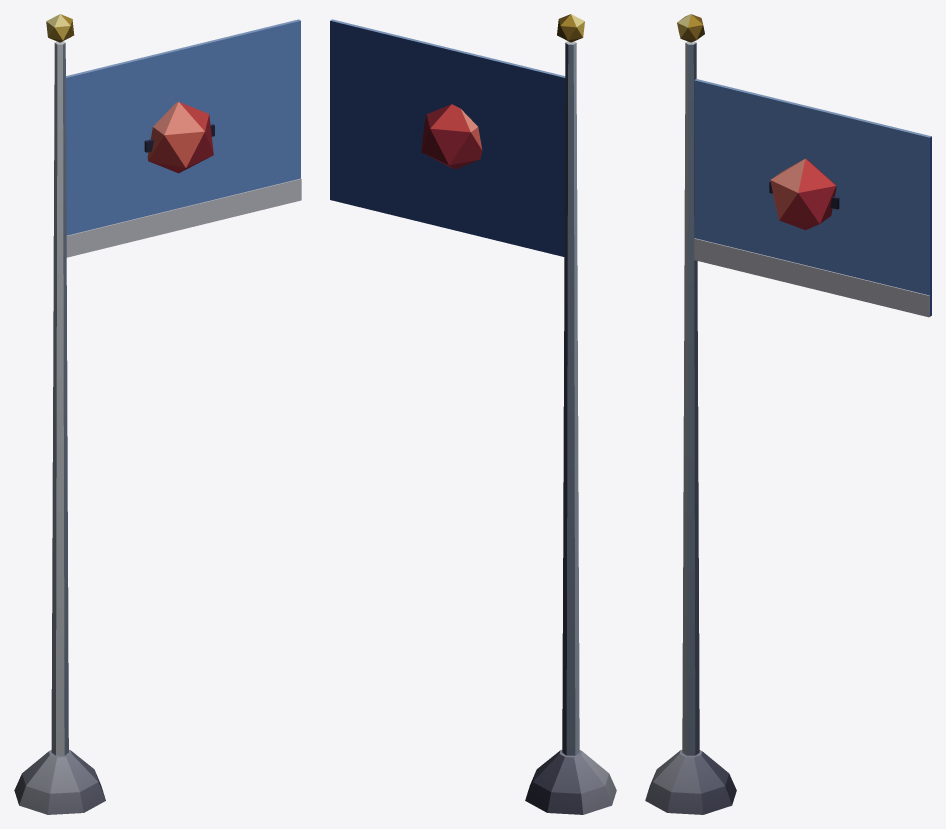
File: flag_pole.glb
The picture shows the model from 3 angles, left to right: view 1: azimuth 30°, elevation 25°; view 2: azimuth 150°, elevation 25°; view 3: azimuth 330°, elevation 25°; orthographic projection.
Visible parts, largest first — view 1: flag_pole; view 2: flag_pole; view 3: flag_pole.
Boxes of the visible parts, <box> form: flag_pole: <box>14,14,301,814</box>; flag_pole: <box>330,14,616,814</box>; flag_pole: <box>645,14,931,814</box>.
Size of the model in its own units: 0.82 by 2.18 by 0.24.
